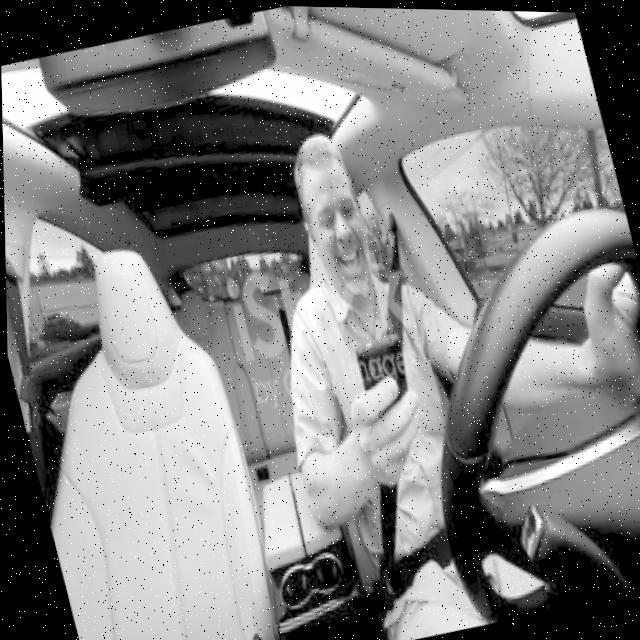PhoneCall: (348, 332, 426, 464)
